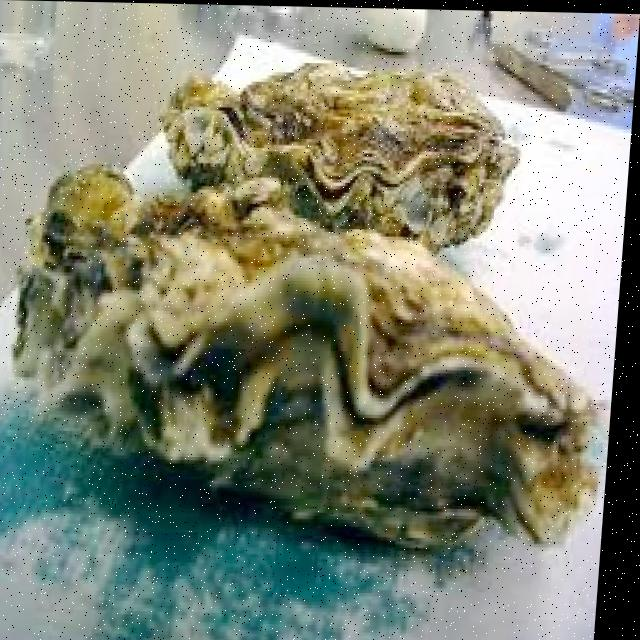Oyster-Closed: (14, 166, 596, 545), (163, 63, 518, 250)
